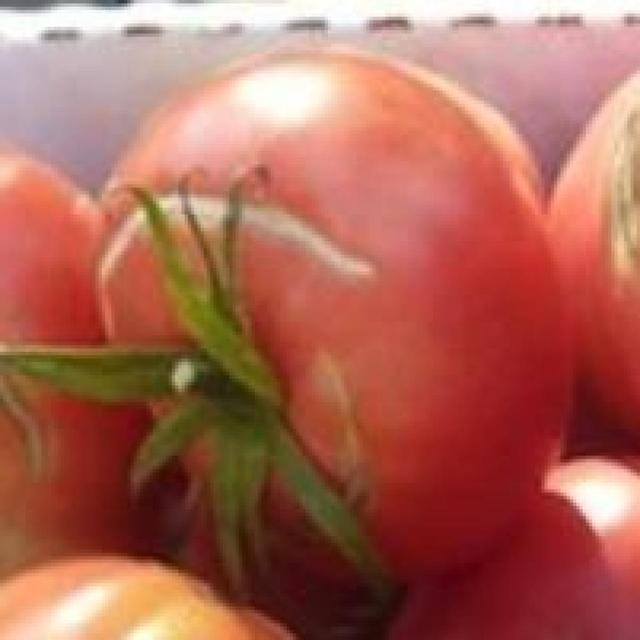Cracking Fruit: (78, 104, 236, 285)
